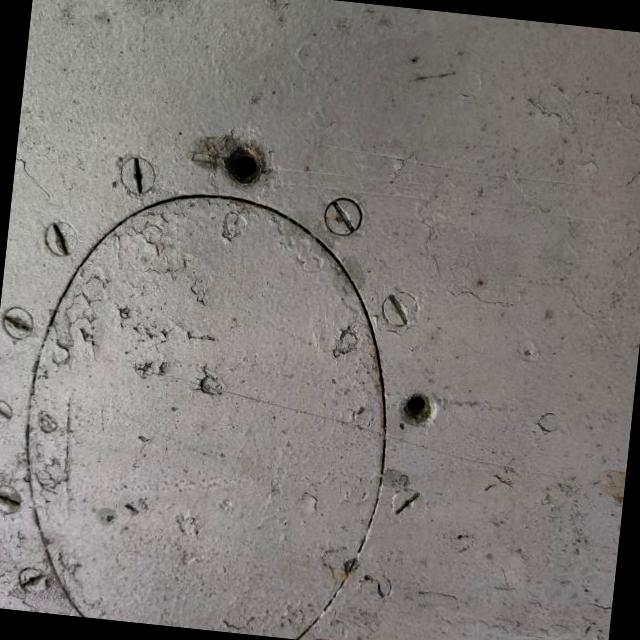Missing Fastener: (220, 134, 267, 184), (401, 390, 438, 428)
